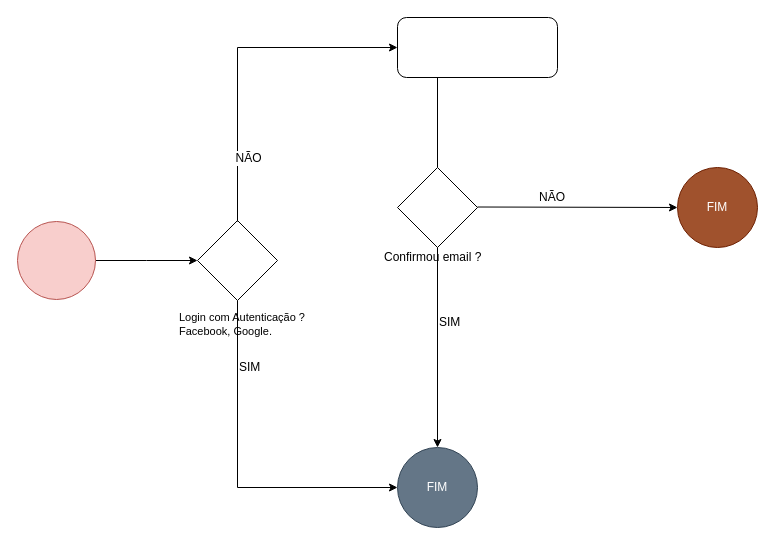
Some shapes in this 775 by 545 pixel diagram are drawn without their labels. The centre of each missing label's shape, as x and y in pixels:
"HOME_PAGE" belongs at [56,260].
"Preencher formulario para registro." belongs at [477,47].
